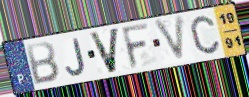B: (24, 40, 61, 87)
C: (188, 14, 221, 55)
F: (120, 22, 152, 71)
J: (65, 37, 87, 77)
V: (152, 13, 187, 65), (87, 26, 122, 76)
